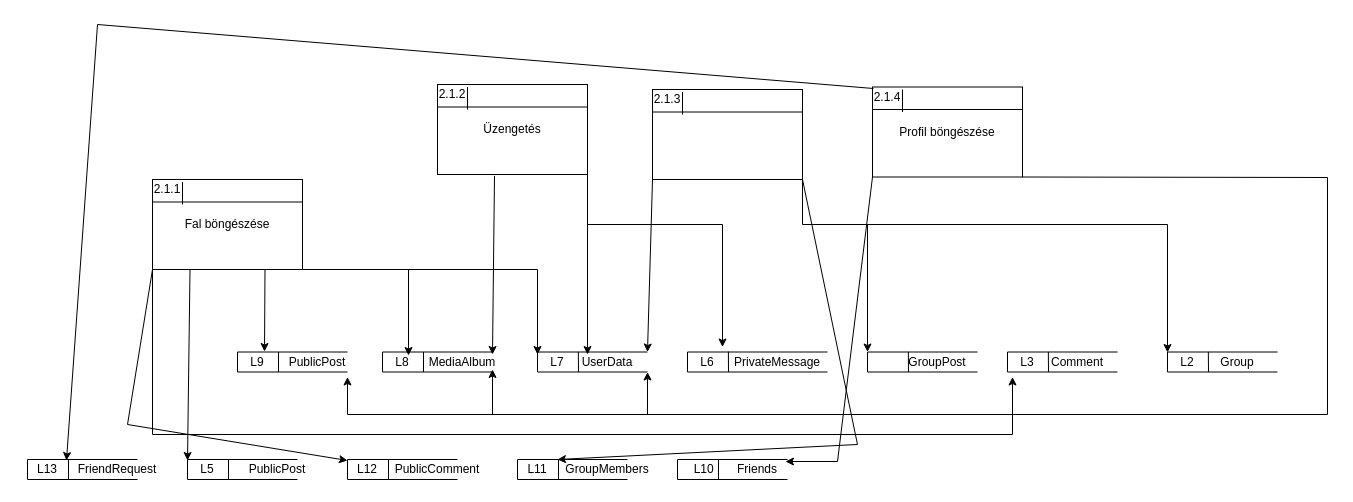
The diagram is 1353 pixels wide and 502 high, and some of its shapes have lost their labels. Here are the shapes that lost their labels. From the top down, the box of each, then its label:
(652, 88, 802, 180): Csoport böngészése
(866, 351, 978, 372): L4
